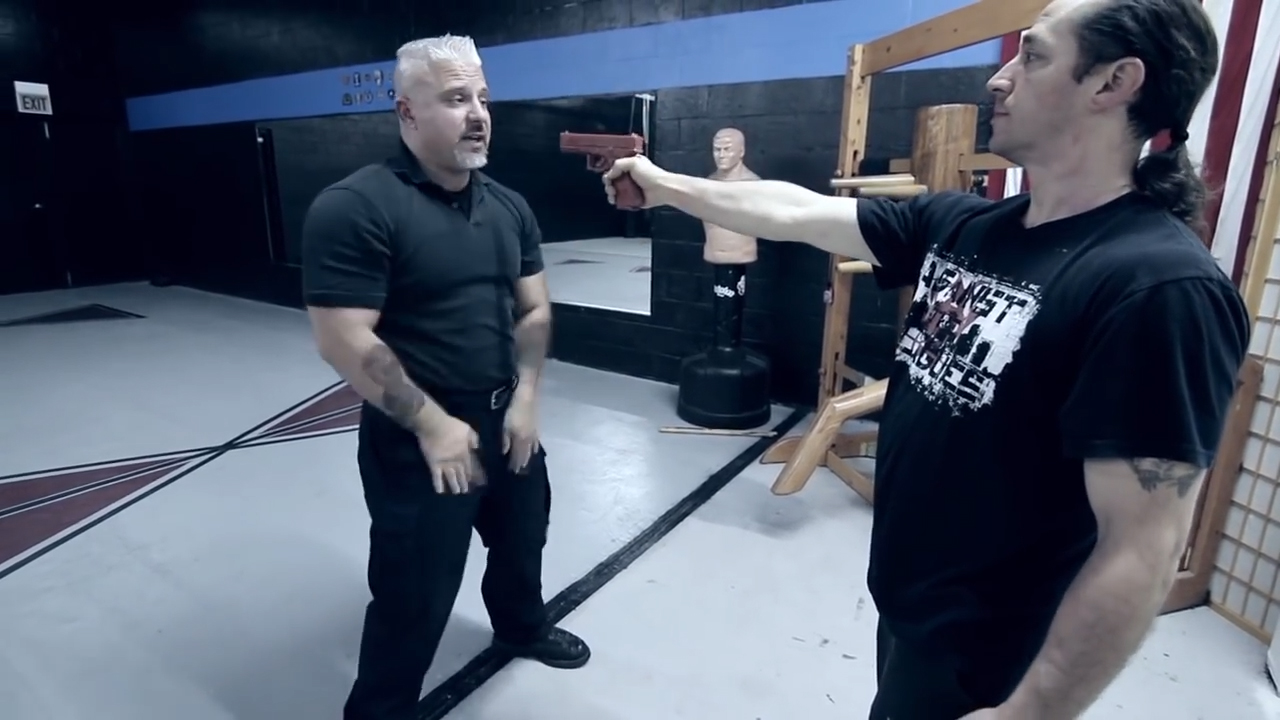pistol: (556, 129, 650, 213)
